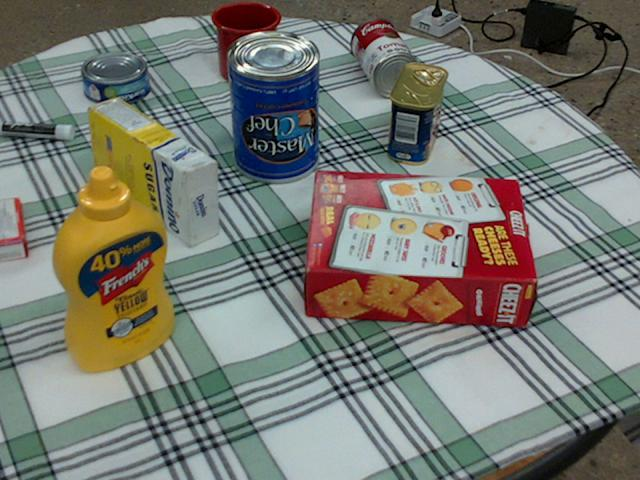cracker_box: (306, 169, 537, 326)
gelatin_box: (0, 198, 29, 261)
large_marker: (0, 121, 73, 139)
master_chef_can: (225, 30, 318, 182)
mug: (212, 1, 282, 82)
mustard_bottle: (51, 166, 173, 369)
potted_meat_can: (387, 63, 446, 164)
sugar_box: (87, 97, 218, 246)
tomato_soup_can: (351, 18, 418, 95)
tuna_fish_can: (82, 51, 149, 104)
